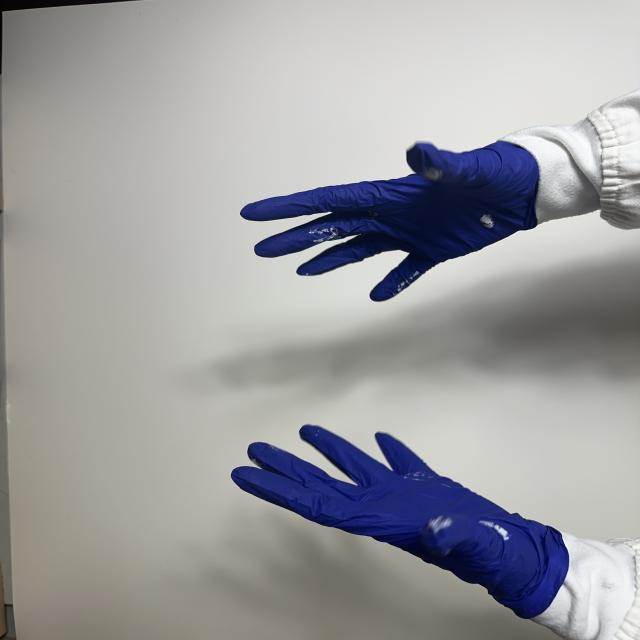gloves_contaminated: (232, 425, 568, 618), (241, 142, 539, 301)
